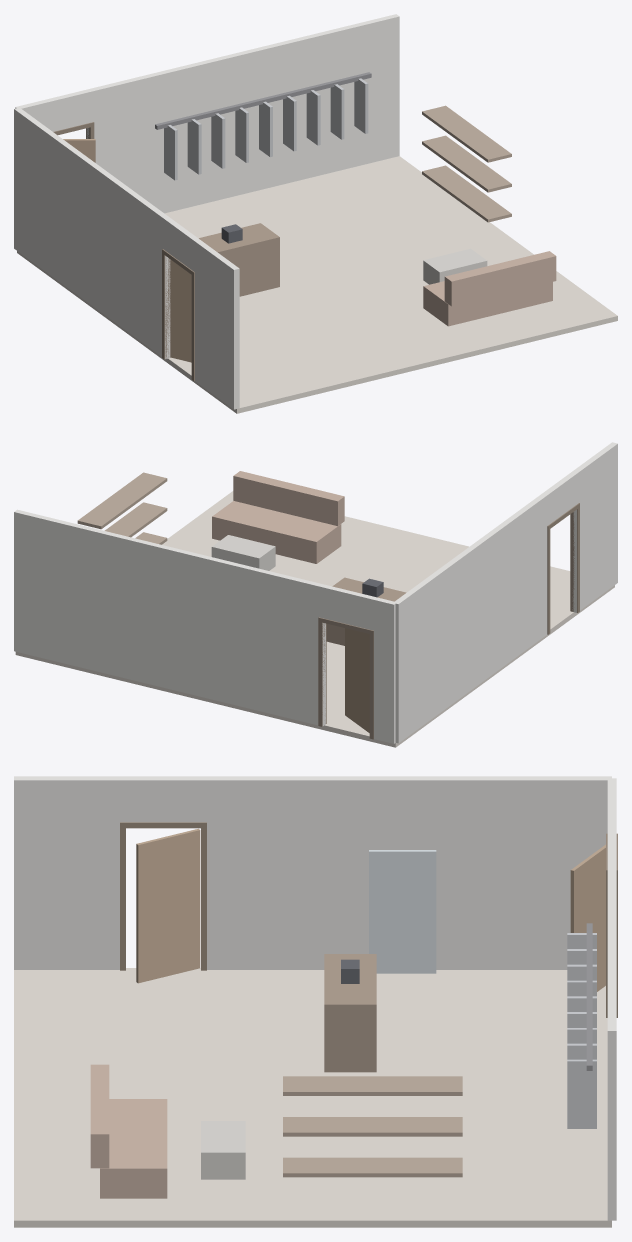
Rendered from scene-popup-store.glb.
3 renders of one model, top to bottom at view 1: azimuth 30°, elevation 25°; view 2: azimuth 150°, elevation 25°; view 3: azimuth 270°, elevation 25°, orthographic. The views are drawn at different scales.
Visible parts, largest first — view 1: floor, wall_back_r, wall_left_l, wall_left_r, sofa_back, counter, sofa_seat, door_left, shelf_1, shelf_3, shelf_2, wall_back_lintel (+13 smaller); view 2: wall_back_r, wall_left_l, floor, wall_left_r, sofa_seat, sofa_back, wall_back_l, door_back, shelf_3, wall_back_lintel, coffee_table, shelf_2 (+5 smaller); view 3: floor, wall_left_l, wall_left_r, door_left, mirror, sofa_seat, counter, wall_back_r, shelf_1, shelf_2, shelf_3, wall_left_lintel (+8 smaller).
Part boxes in pixels (box(x1,y1,x2,y2)): floor: box(17, 156, 617, 413); wall_back_r: box(86, 14, 399, 213); wall_left_l: box(14, 108, 170, 358); wall_left_r: box(192, 238, 239, 409); sofa_back: box(444, 251, 556, 306); counter: box(199, 223, 279, 296); sofa_seat: box(423, 281, 552, 326); door_left: box(170, 259, 191, 362); shelf_1: box(422, 165, 511, 222); shelf_3: box(422, 105, 511, 162); shelf_2: box(422, 135, 511, 192); wall_back_lintel: box(39, 89, 89, 131); wall_back_r: box(14, 509, 325, 726); wall_left_l: box(394, 492, 549, 743); floor: box(15, 491, 614, 747); wall_left_r: box(571, 442, 617, 612); sofa_seat: box(212, 501, 341, 563); sofa_back: box(233, 471, 344, 526); wall_back_l: box(370, 596, 396, 743); door_back: box(345, 628, 369, 732); shelf_3: box(77, 472, 167, 529); wall_back_lintel: box(322, 585, 373, 629); coffee_table: box(211, 535, 275, 570); shelf_2: box(104, 502, 167, 537); floor: box(14, 968, 611, 1227); wall_left_l: box(201, 776, 611, 969); wall_left_r: box(14, 776, 125, 969); door_left: box(136, 828, 200, 983); mirror: box(369, 850, 436, 973); sofa_seat: box(100, 1099, 167, 1198); counter: box(324, 954, 376, 1072); wall_back_r: box(607, 825, 616, 1220); shelf_1: box(283, 1157, 462, 1177); shelf_2: box(283, 1117, 462, 1136); shelf_3: box(283, 1076, 462, 1095); wall_left_lintel: box(126, 776, 200, 822).
Size of the model in its own units: 8.08 by 2.9 by 8.08.
